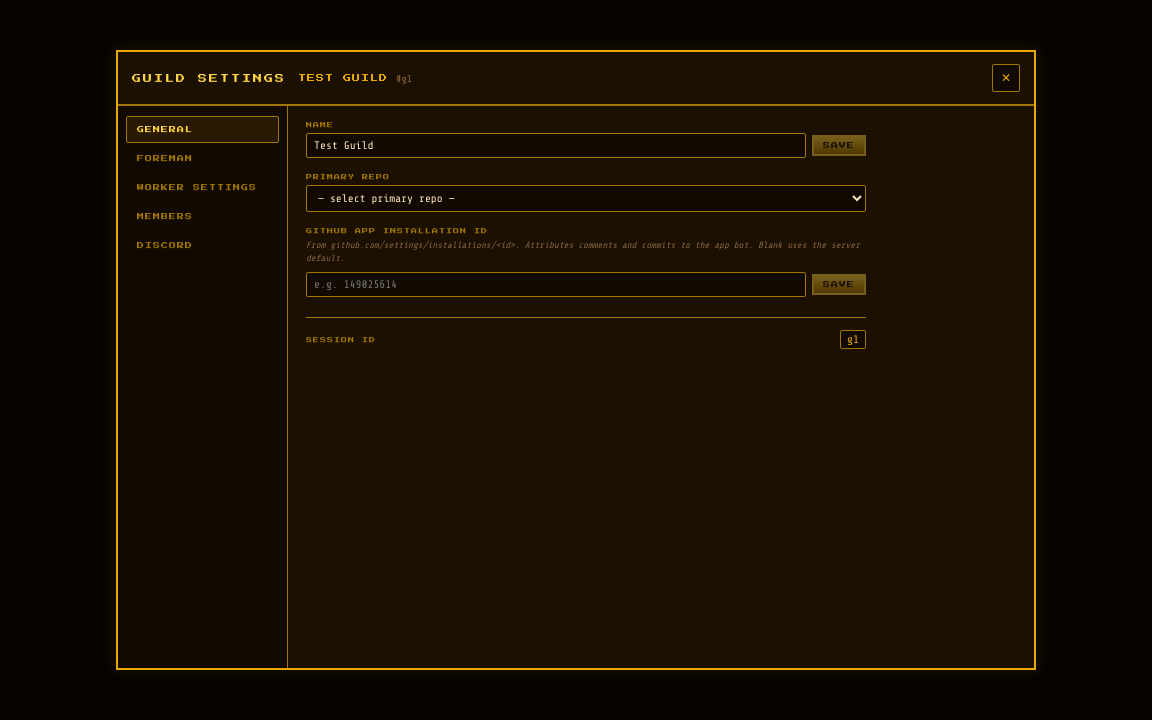
GuildSettingsPanel worker tool tabs › defaults to the General sub-tab; the foreman LLM fields stay in the Foreman tab
The image size is (1152, 720).
What coordinates should you click on to do the following:
click the button with class "settings-tab" showing "Worker Settings"
I would click on:
 (202, 188)
Its box is [126,174,279,201].
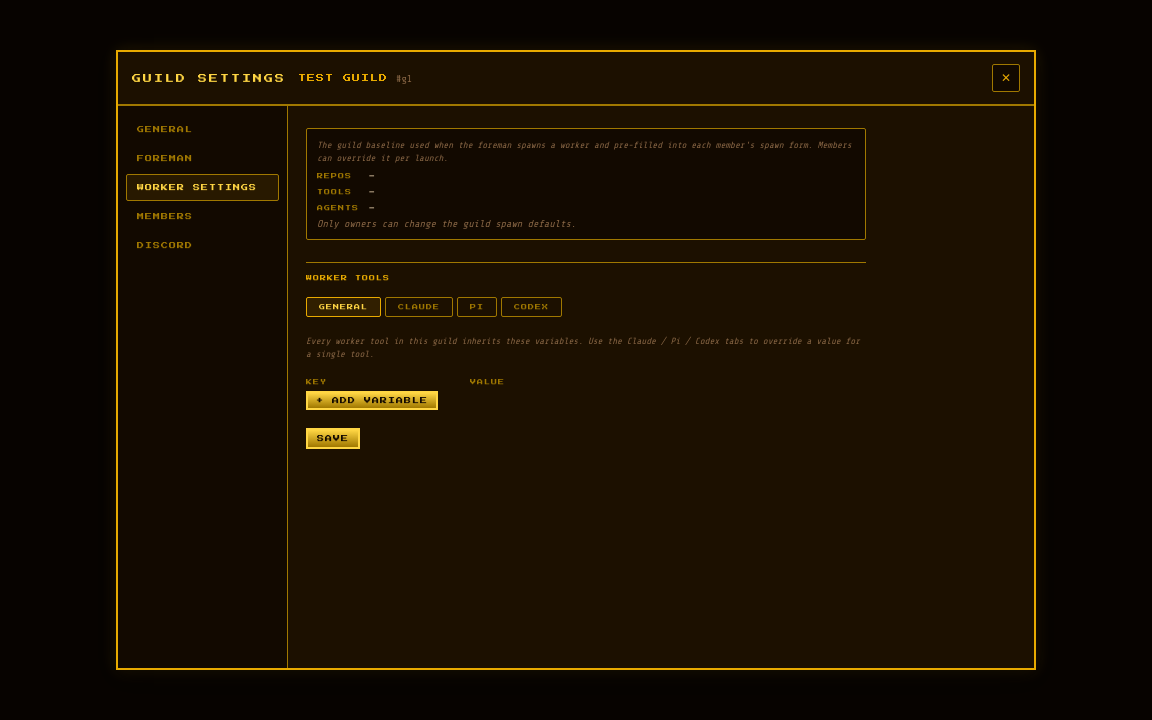
Check: the elements with class "foreman-tool-tab" read "General", "Claude", "Pi", "Codex", in this order, box [306,297,381,317]; [385,297,453,317]; [457,297,497,317]; [501,297,562,317]
